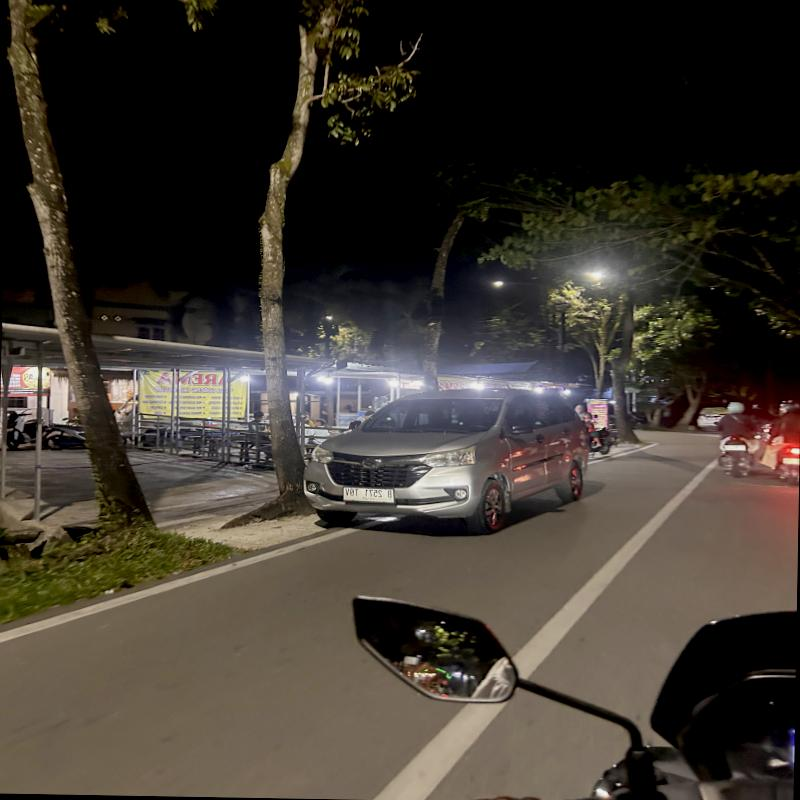license plate on a car: (344, 486, 398, 504)
